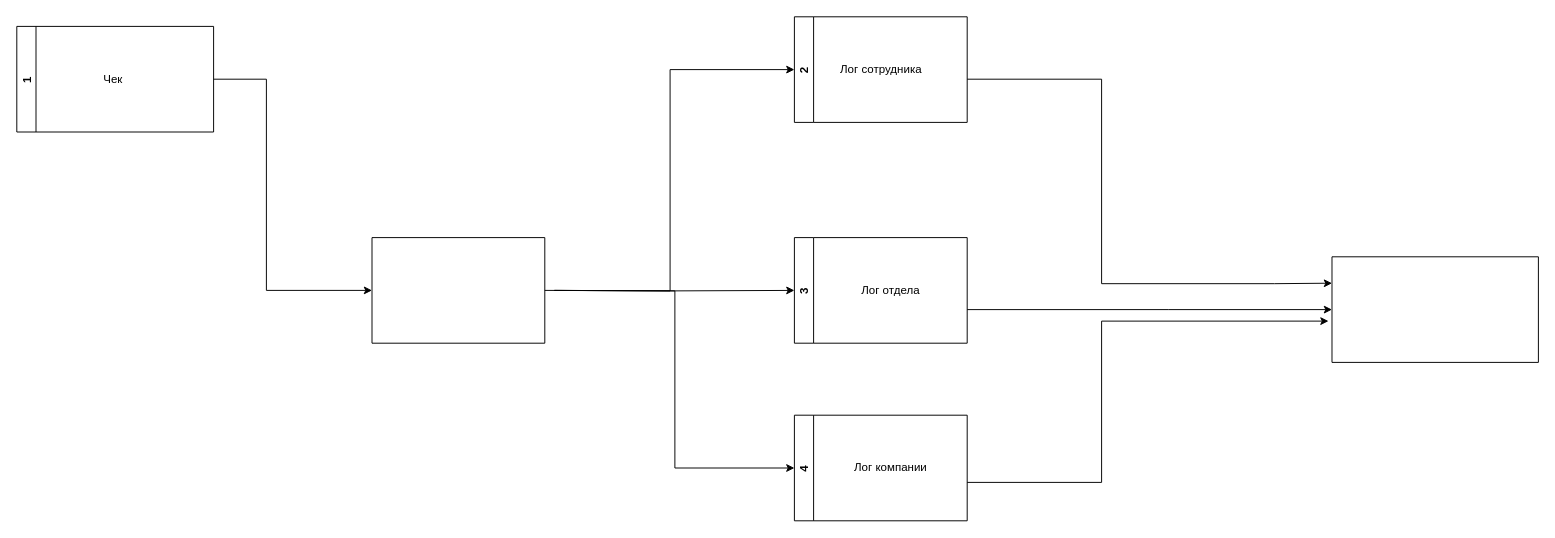
Image size: 1555x538. Some labels were removed from this diagram. Each missing label, with the centre of its shape:
"Логирование" goes at point (458, 290).
"Перерасчёт баланса" goes at point (1434, 309).
